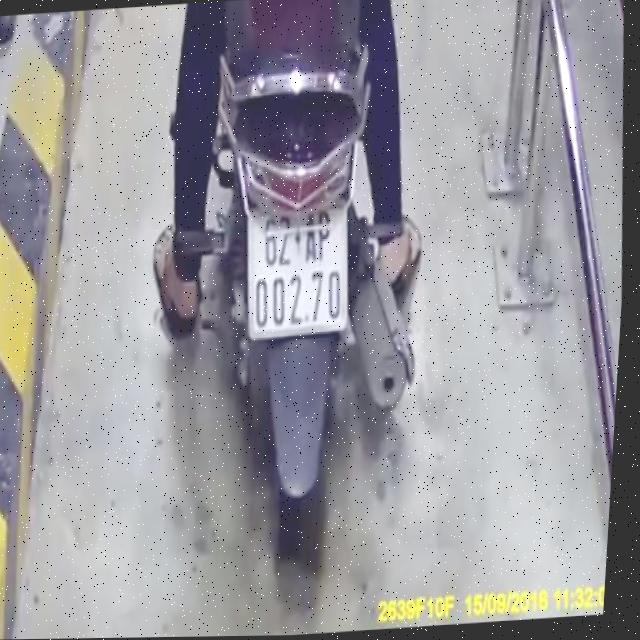motorcycle: (161, 0, 445, 582)
plate: (230, 195, 363, 347)
